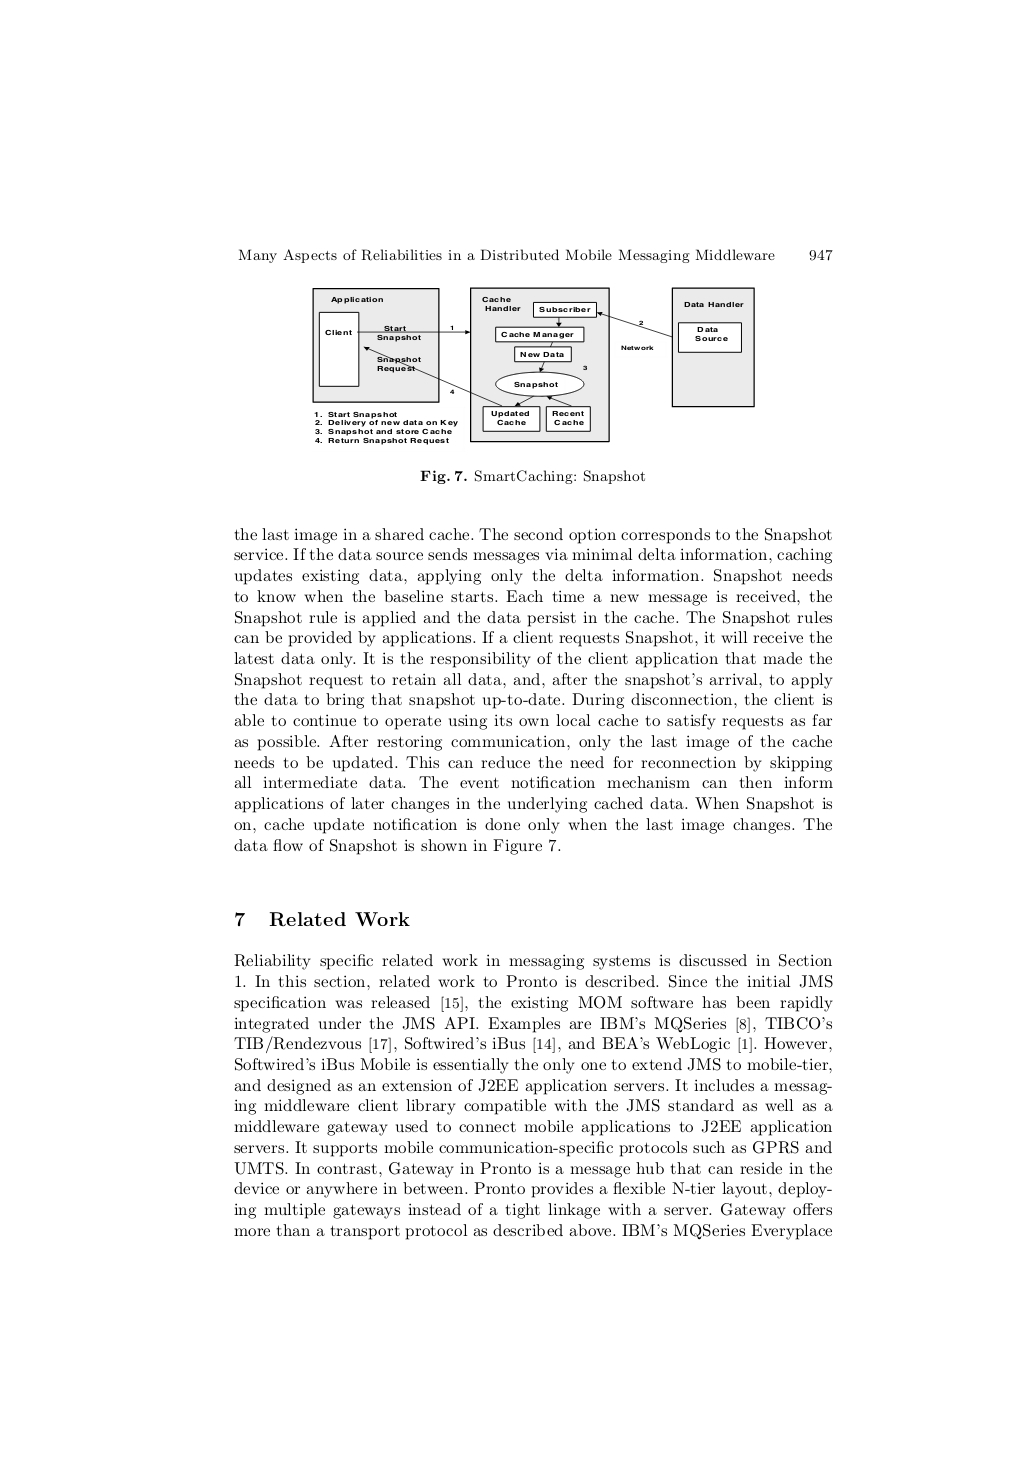figure: (312, 286, 754, 445)
